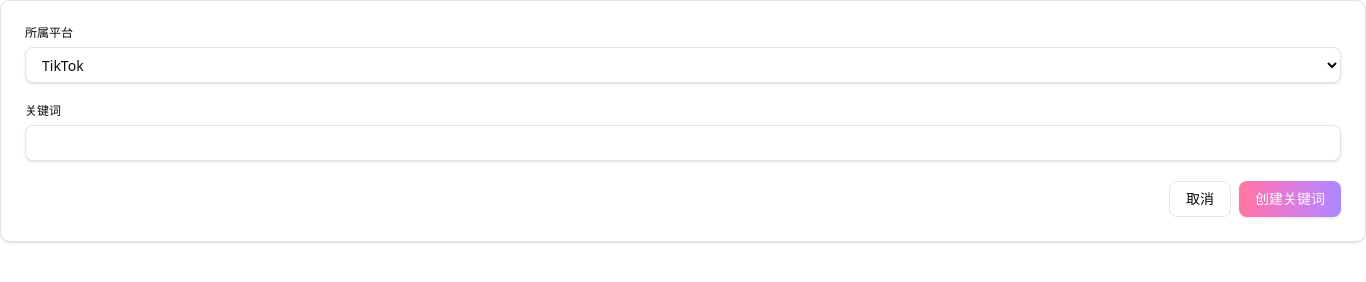
Test case: KeywordForm › 422 字段错误映射并保留输入
Type "保留我" into the field labelled "关键词" at (683, 143), box [25,125,1341,161]
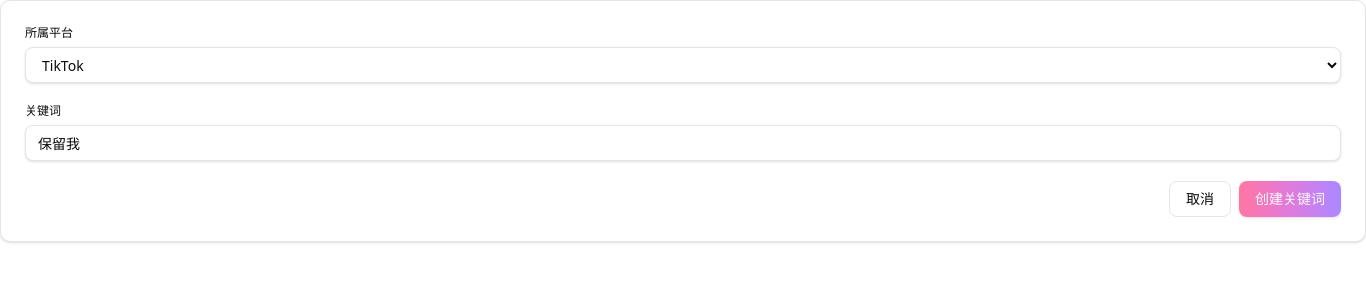
Submit the form "创建关键词"
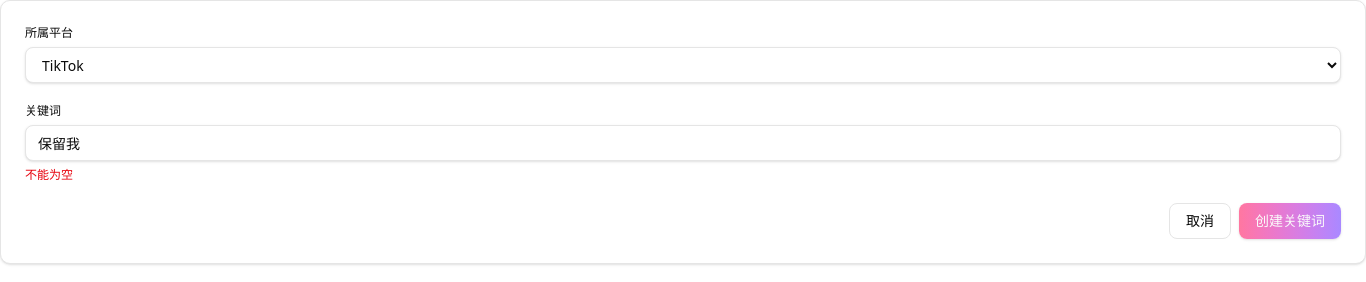
Now the text "不能为空" is shown, box [25,166,73,183]
